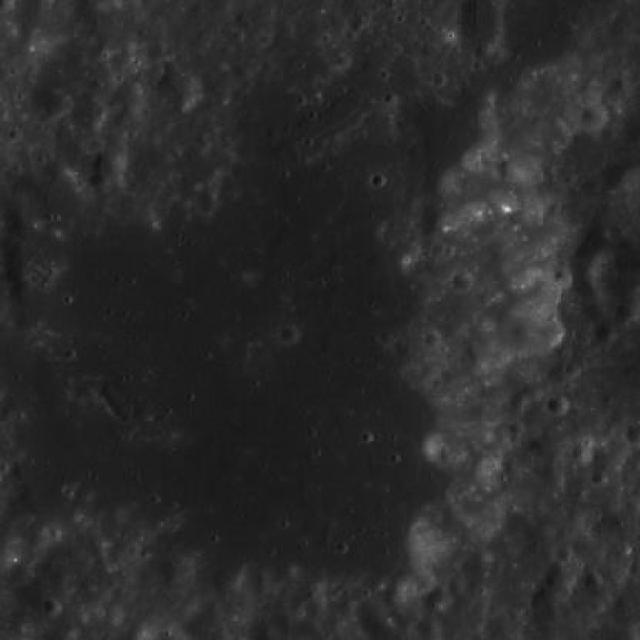crater: (0, 68, 545, 621), (408, 98, 494, 182), (282, 160, 346, 223), (22, 167, 84, 227), (457, 1, 505, 47), (128, 145, 174, 190), (162, 72, 200, 110), (32, 86, 70, 122), (457, 84, 494, 120), (160, 556, 196, 590), (72, 96, 105, 130), (111, 80, 144, 112), (95, 149, 124, 177), (580, 104, 608, 130), (426, 586, 452, 611), (497, 158, 523, 182), (194, 190, 220, 212), (417, 616, 440, 639), (593, 323, 616, 345), (450, 271, 472, 291), (615, 304, 637, 324), (546, 396, 568, 416), (570, 444, 592, 464), (89, 171, 109, 191), (280, 326, 300, 346), (510, 394, 530, 412), (554, 268, 572, 286), (42, 599, 61, 616), (524, 383, 542, 400), (554, 544, 572, 560), (334, 54, 351, 70), (584, 572, 601, 588), (612, 76, 628, 92), (0, 0, 14, 14)
